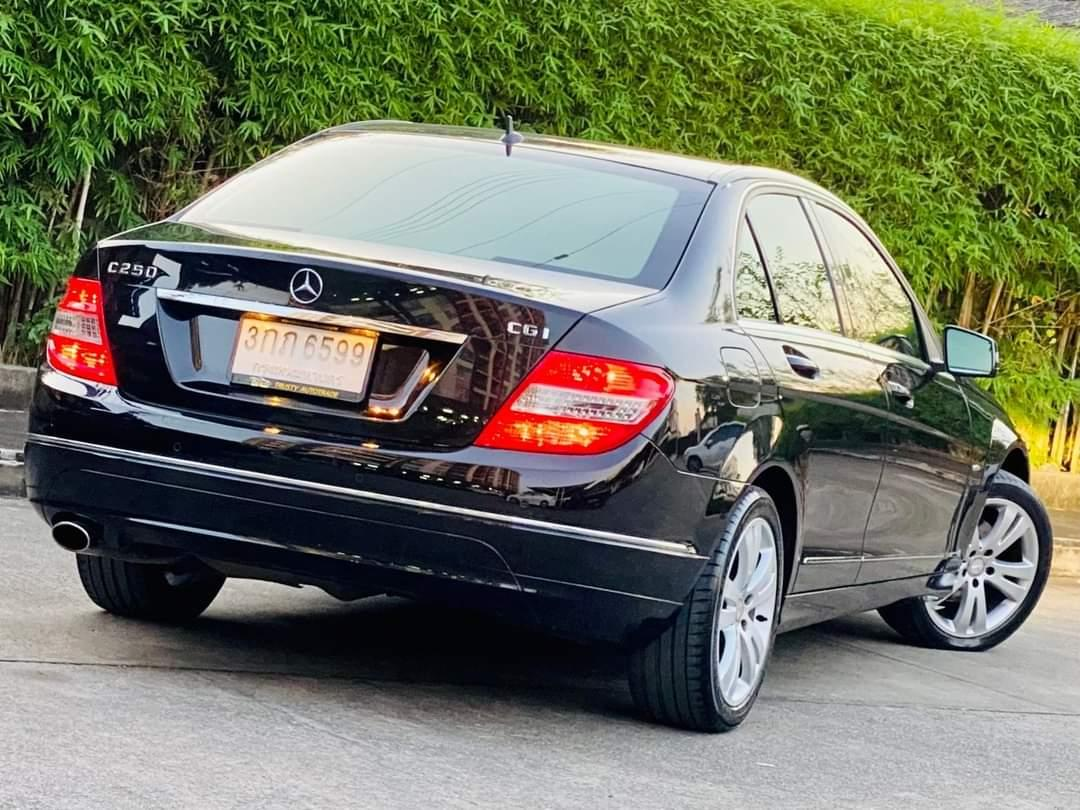license-plate: (232, 311, 378, 400)
